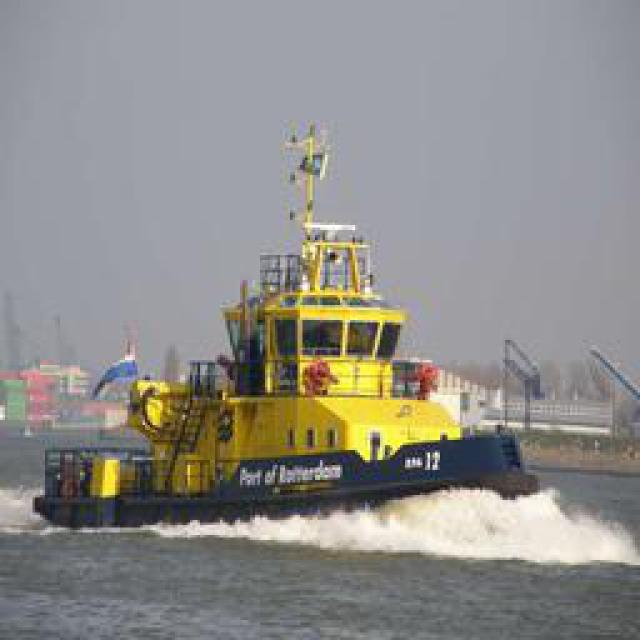Ship: (64, 163, 524, 521)
